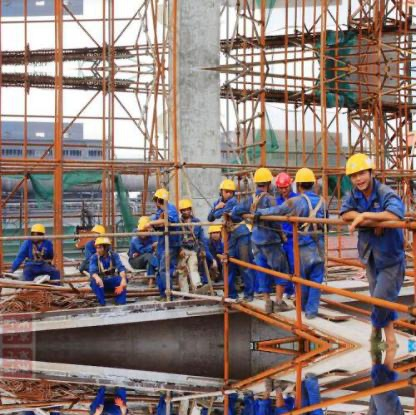Safety Helmet: (342, 147, 381, 195), (248, 164, 275, 195), (292, 166, 319, 194), (213, 177, 239, 204), (270, 170, 295, 197), (148, 185, 175, 208), (90, 235, 117, 257), (29, 224, 50, 248), (133, 219, 154, 240), (177, 196, 196, 218), (202, 221, 224, 240), (87, 223, 108, 242)
